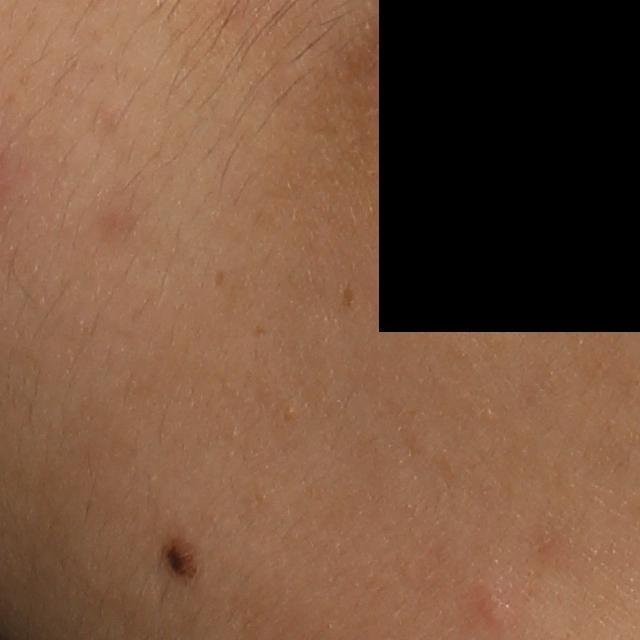nevus: (163, 539, 196, 584)
papule: (476, 591, 510, 630)
